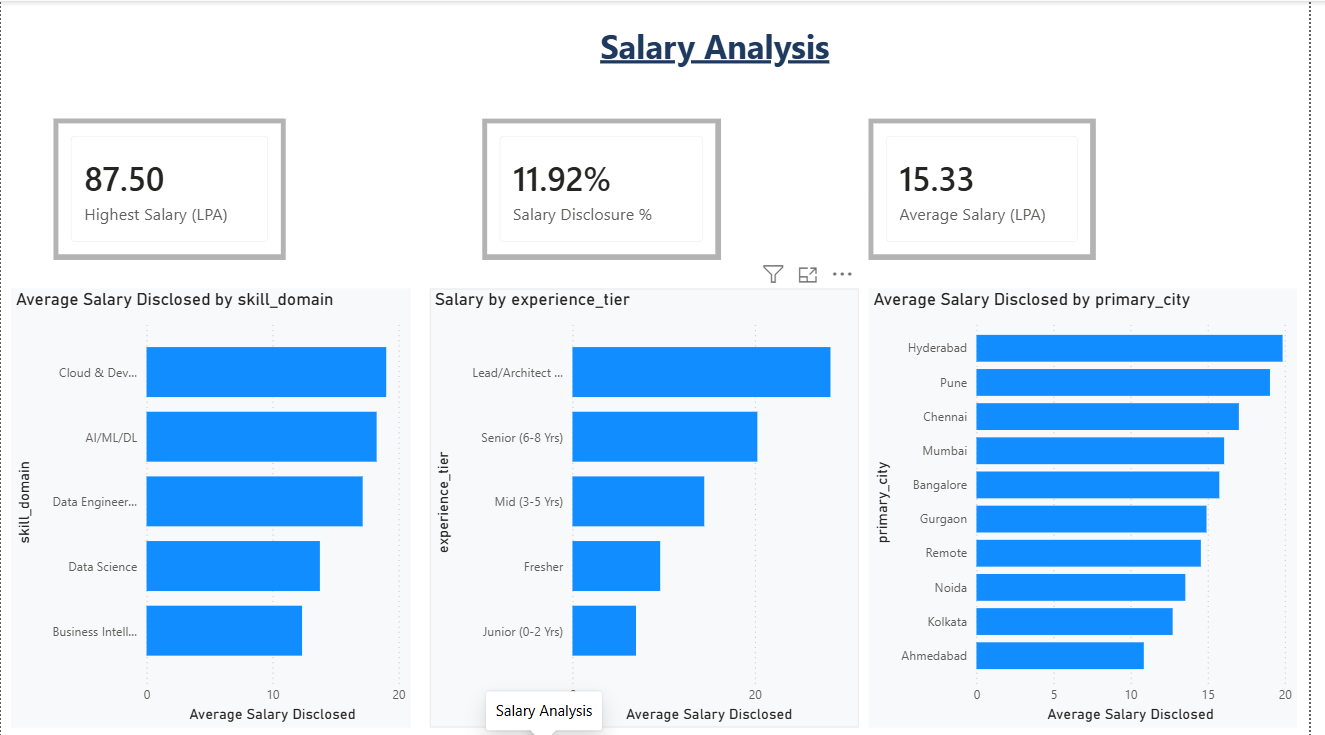

The dashboard page shown, as its layout file describes it:
{"tool":"powerbi","page":{"name":"Salary Analysis","canvas":[1280,720],"ordinal":2},"visuals":[{"type":"cardVisual","fields":{"Data":["indian_tech_jobs_2026.Highest Salary"]},"box":[51.4,114.9,227.4,138.2],"z":0},{"type":"cardVisual","fields":{"Data":["indian_tech_jobs_2026.Salary Disclosure %"]},"box":[470.8,114.9,233.6,138.2],"z":1000},{"type":"cardVisual","fields":{"Data":["indian_tech_jobs_2026.Average Salary"]},"box":[848.6,114.9,222.6,138.2],"z":2000},{"type":"barChart","title":"Salary by experience_tier","fields":{"Category":["indian_tech_jobs_2026.experience_tier"],"Y":["indian_tech_jobs_2026.Average Salary Disclosed"]},"box":[419.4,281.3,419.4,429.2],"z":3000},{"type":"barChart","fields":{"Category":["indian_tech_jobs_2026.primary_city"],"Y":["indian_tech_jobs_2026.Average Salary Disclosed"]},"box":[848.6,281.3,419.4,429.2],"z":4000},{"type":"clusteredBarChart","fields":{"Category":["indian_tech_jobs_2026.skill_domain"],"Y":["indian_tech_jobs_2026.Average Salary Disclosed"]},"box":[9.8,281.3,391.3,429.2],"z":5000},{"type":"textbox","box":[277.6,17.1,841.3,97.8],"z":5001}]}

Visuals, with their boxes on the page's 1280x720 design canvas (x1, y1, x2, y2). These are canvas units, not pixel positions in the 1325x735 screenshot, which may show the page scaled, cropped or inside an application window:
cardVisual - indian_tech_jobs_2026.Highest Salary: box=[51, 115, 279, 253]
cardVisual - indian_tech_jobs_2026.Salary Disclosure %: box=[471, 115, 704, 253]
cardVisual - indian_tech_jobs_2026.Average Salary: box=[849, 115, 1071, 253]
"Salary by experience_tier" barChart: box=[419, 281, 839, 710]
barChart - indian_tech_jobs_2026.primary_city x indian_tech_jobs_2026.Average Salary Disclosed: box=[849, 281, 1268, 710]
clusteredBarChart - indian_tech_jobs_2026.skill_domain x indian_tech_jobs_2026.Average Salary Disclosed: box=[10, 281, 401, 710]
textbox: box=[278, 17, 1119, 115]
